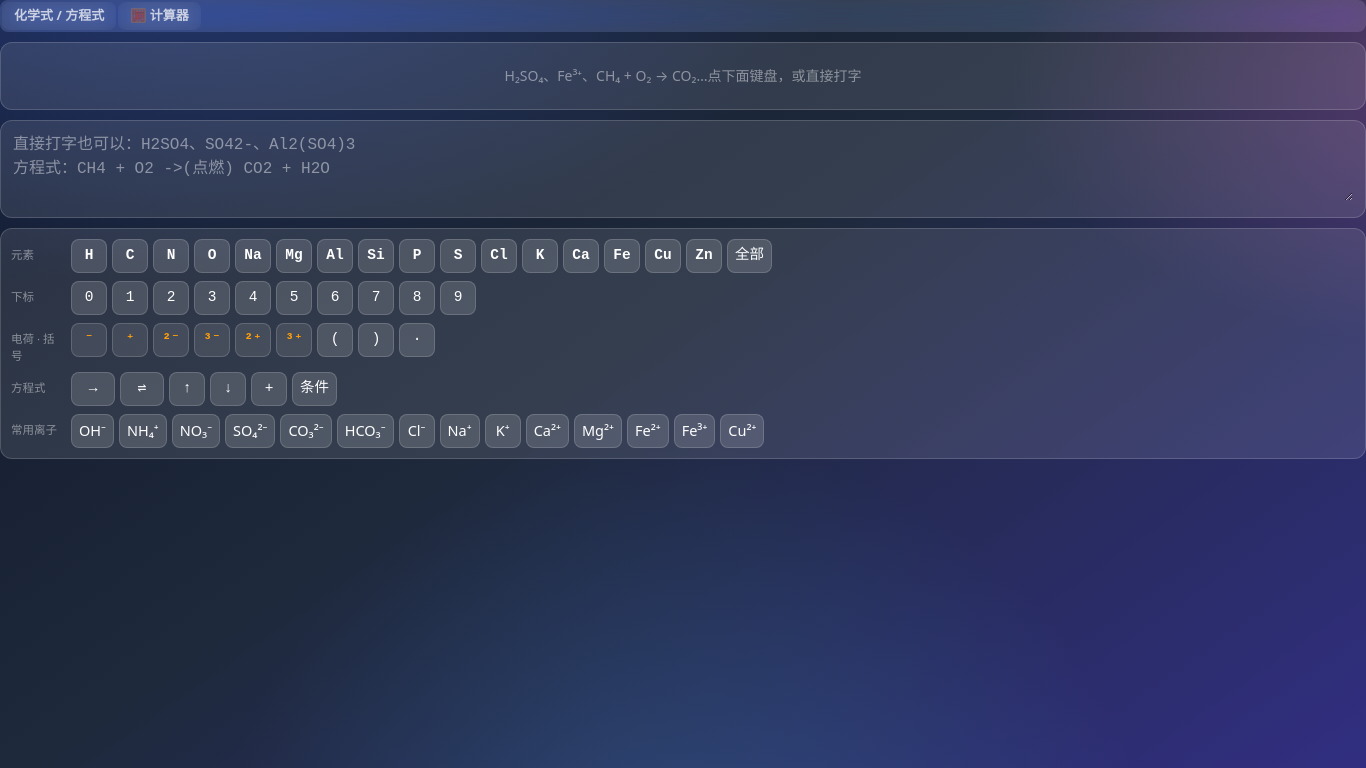
化学输入键盘 › 点离子基团插入显式电荷形式
Click the button "SO₄²⁻".
click(250, 431)  # box [225,414,275,448]
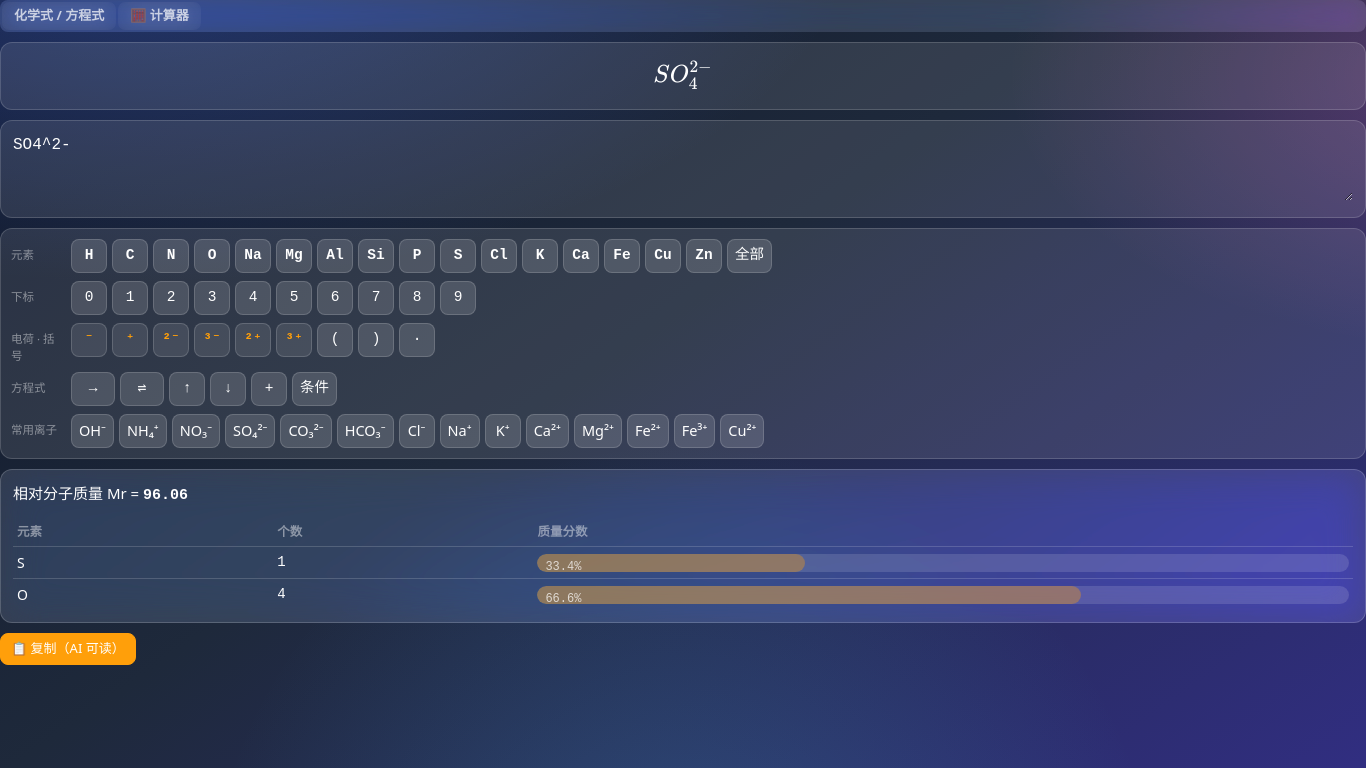
expect the text box named "化学式输入" holds "SO4^2-": met, box [13,128,1353,200]
